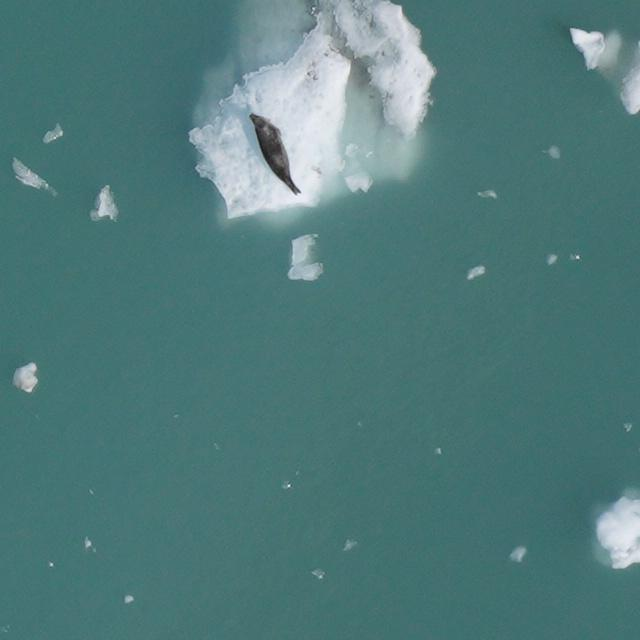seal: (244, 104, 304, 205)
